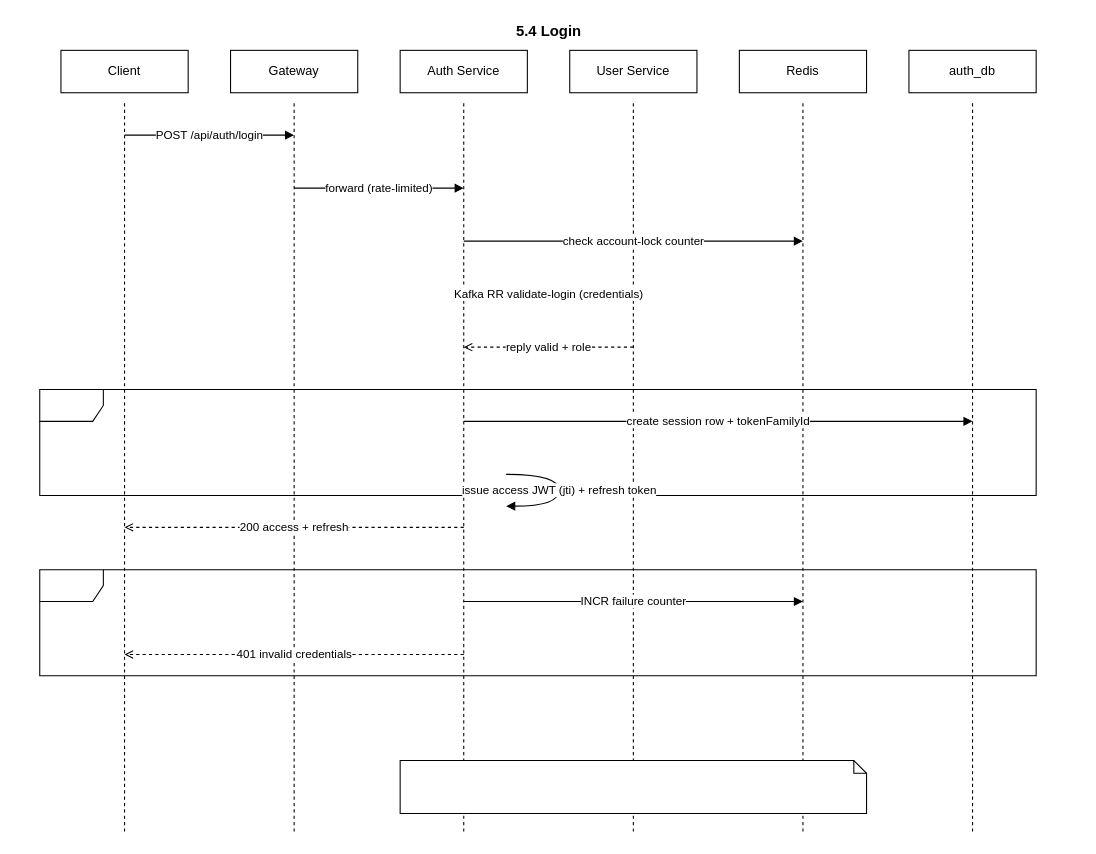
This 1096x854 diagram has some shape labels left out. Each missing label, with the centre of its shape:
"5 consecutive failures lock the account for a cooldown TTL" goes at point (633, 786).
"alt credentials valid" goes at point (537, 442).
"else invalid" goes at point (537, 622).
